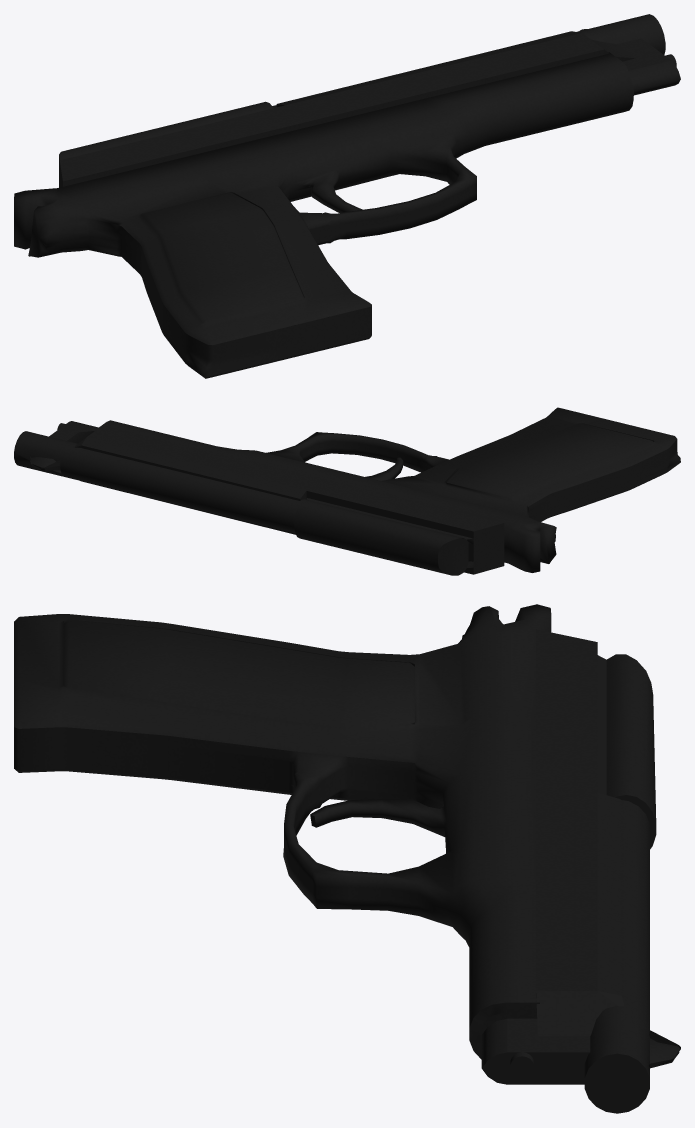
The model's file is pistola.obj.
The picture shows the model from 3 angles, top to bottom: view 1: azimuth 30°, elevation 25°; view 2: azimuth 150°, elevation 25°; view 3: azimuth 270°, elevation 25°; orthographic projection. The views are drawn at different scales.
Parts seen in each view (by area): view 1: Cylinder001; view 2: Cylinder001; view 3: Cylinder001.
Part boxes in pixels (bbox=[...]): Cylinder001: bbox=[14, 14, 680, 378]; Cylinder001: bbox=[14, 407, 680, 575]; Cylinder001: bbox=[14, 604, 680, 1113].
Bounding box in the file's own units: 5.08 × 0.4222 × 3.2.
1 material, 1 textured.
